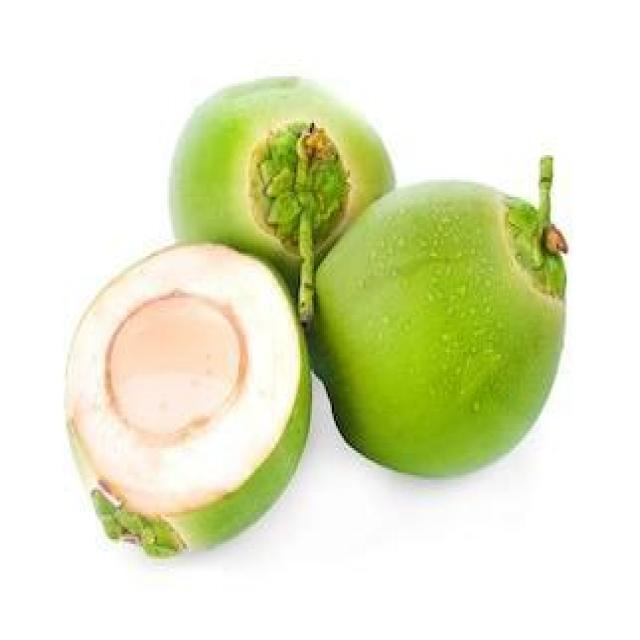coconut: (63, 265, 307, 550), (349, 172, 571, 476), (167, 74, 371, 240)
